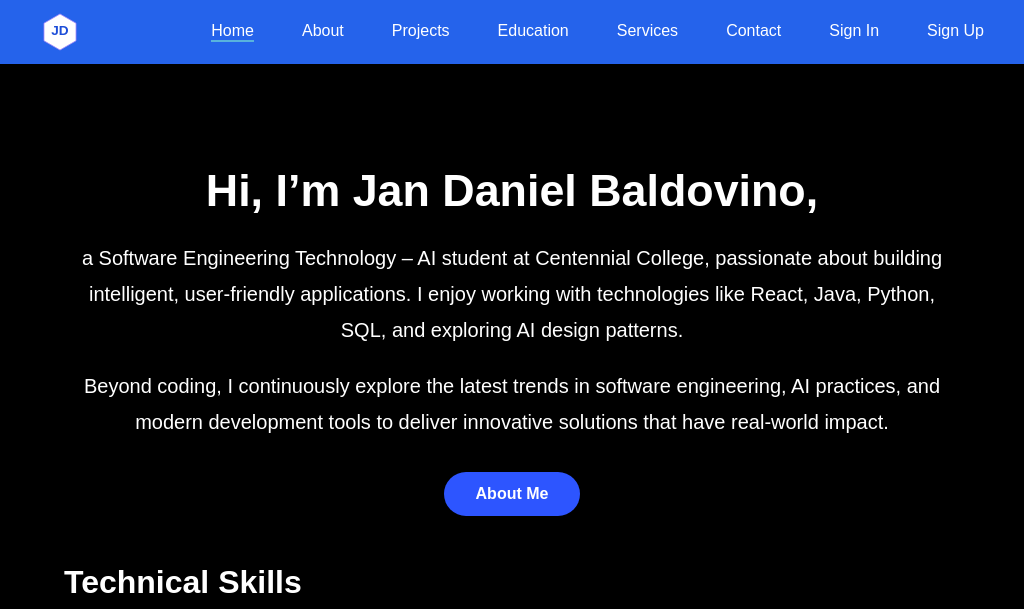
it: Portfolio Website E2E Test › Navigates to Contact Page
Click the link "Contact". click: (754, 32)
box: top-left (726, 22), bottom-right (781, 42)
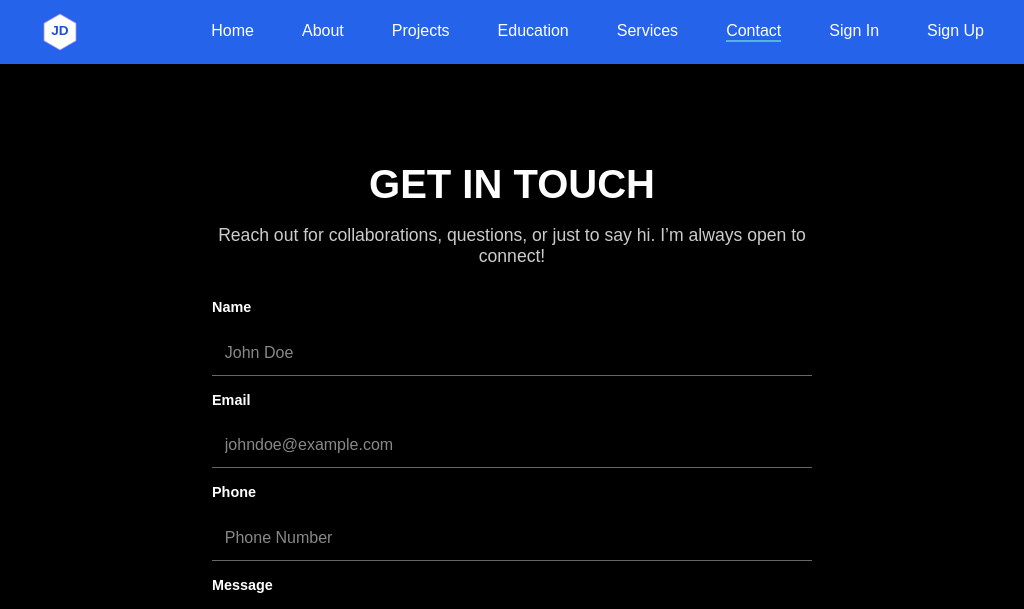
Expected: the heading "GET IN TOUCH" is shown, top-left (369, 162), bottom-right (655, 206)
